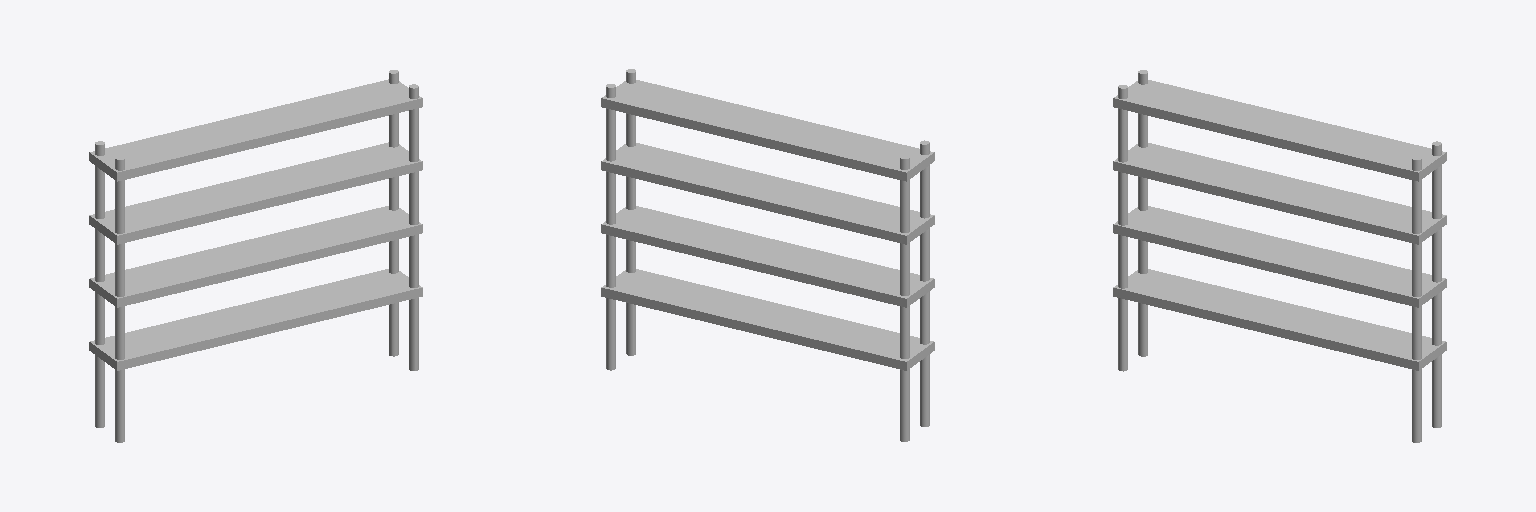
File: Regal.obj
3 renders of one model, left to right at view 1: azimuth 30°, elevation 25°; view 2: azimuth 150°, elevation 25°; view 3: azimuth 330°, elevation 25°, orthographic.
Parts seen in each view (by area): view 1: Cube, Cube.003, Cube.001, Cube.002, Cylinder, Cylinder.003_Cylinder.004, Cylinder.001_Cylinder.002, Cylinder.002_Cylinder.003; view 2: Cube, Cube.001, Cube.003, Cube.002, Cylinder.001_Cylinder.002, Cylinder.002_Cylinder.003, Cylinder, Cylinder.003_Cylinder.004; view 3: Cube, Cube.001, Cube.003, Cube.002, Cylinder.003_Cylinder.004, Cylinder, Cylinder.002_Cylinder.003, Cylinder.001_Cylinder.002.
Boxes of the visible parts, x1,y1,x2,y2 form: Cube: [89, 79, 422, 181]; Cube.003: [89, 269, 422, 370]; Cube.001: [89, 142, 422, 244]; Cube.002: [89, 206, 422, 307]; Cylinder: [115, 156, 124, 442]; Cylinder.003_Cylinder.004: [409, 84, 418, 370]; Cylinder.001_Cylinder.002: [95, 141, 104, 427]; Cylinder.002_Cylinder.003: [389, 70, 398, 356]; Cube: [601, 80, 934, 181]; Cube.001: [601, 143, 934, 244]; Cube.003: [601, 269, 934, 370]; Cube.002: [601, 206, 934, 307]; Cylinder.001_Cylinder.002: [900, 155, 909, 441]; Cylinder.002_Cylinder.003: [606, 84, 615, 370]; Cylinder: [920, 140, 929, 426]; Cylinder.003_Cylinder.004: [626, 69, 635, 355]; Cube: [1113, 80, 1446, 181]; Cube.001: [1113, 143, 1446, 244]; Cube.003: [1113, 269, 1446, 370]; Cube.002: [1113, 206, 1446, 307]; Cylinder.003_Cylinder.004: [1412, 156, 1421, 442]; Cylinder: [1118, 85, 1127, 371]; Cylinder.002_Cylinder.003: [1432, 141, 1441, 427]; Cylinder.001_Cylinder.002: [1138, 70, 1147, 356].
Size of the model in its own units: 12.66 by 11.2 by 2.